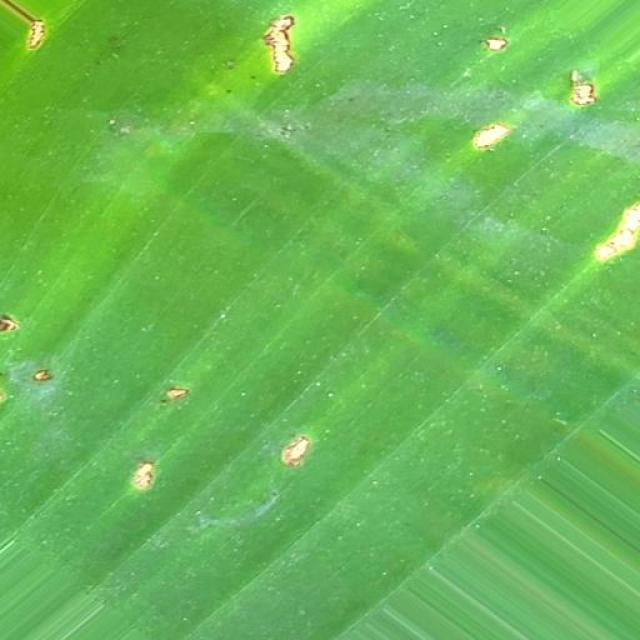Black_rot: (0, 8, 640, 562)
